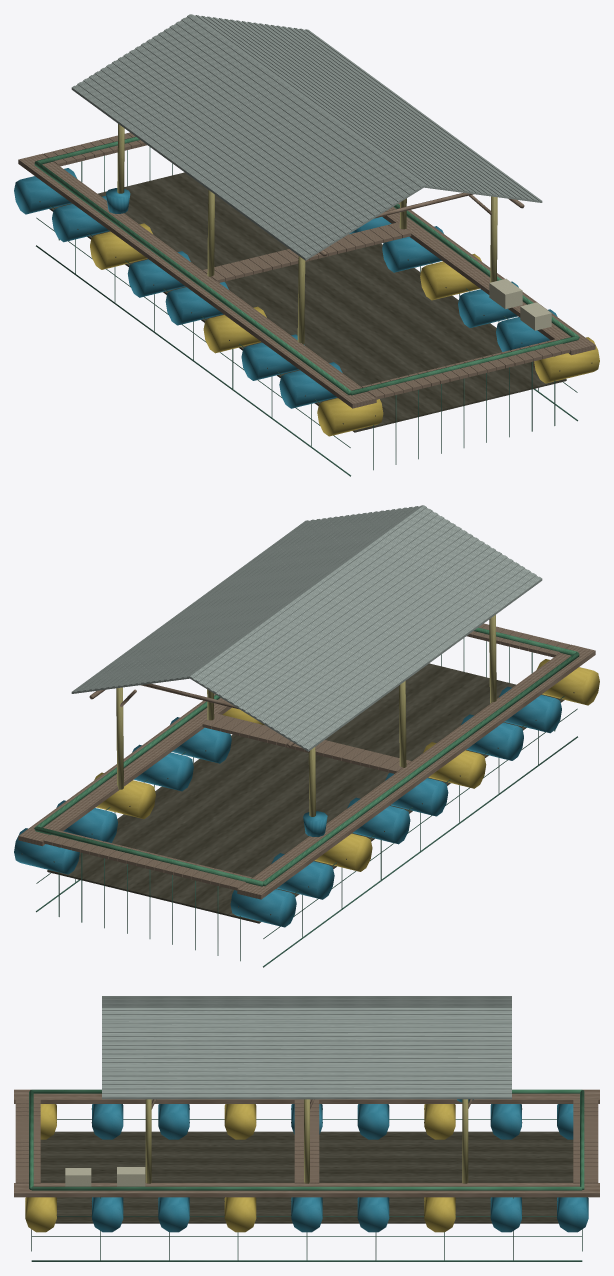
Rendered from bung-raft-3-grey.glb.
3 views of the same model, one above another, from view 1: azimuth 30°, elevation 25°; view 2: azimuth 150°, elevation 25°; view 3: azimuth 270°, elevation 25° (orthographic). The views are drawn at different scales.
Parts seen in each view (by area): view 1: bung-raft-3-grey; view 2: bung-raft-3-grey; view 3: bung-raft-3-grey.
Part boxes in pixels (x1=…): bung-raft-3-grey: x1=14, y1=14, x2=599, y2=476; bung-raft-3-grey: x1=14, y1=505, x2=599, y2=967; bung-raft-3-grey: x1=14, y1=996, x2=599, y2=1261.
Size of the model in its own units: 4.94 by 4.18 by 10.8.
1 material, 1 textured.
